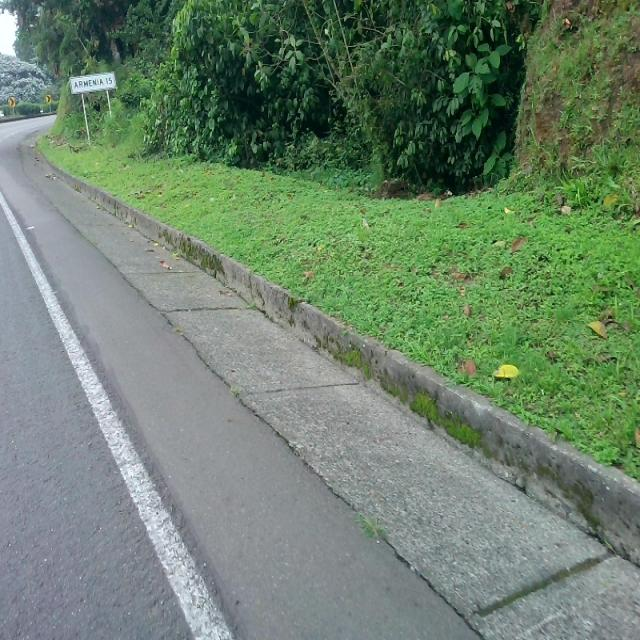DITCH: (16, 128, 638, 638)
